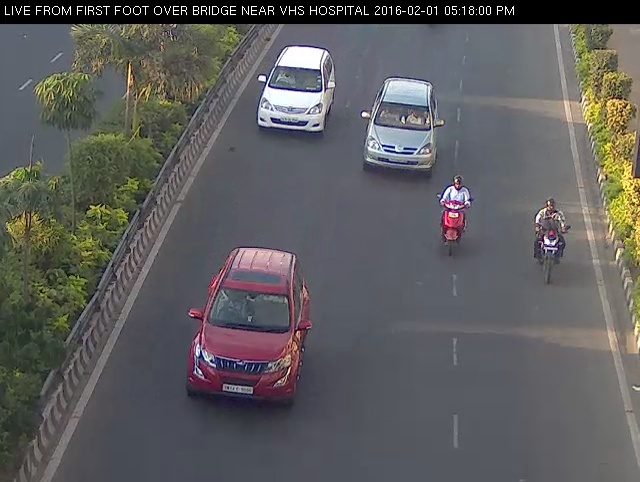Car: (172, 231, 322, 423), (359, 68, 447, 180), (252, 42, 340, 143)
Person: (525, 195, 579, 287), (432, 173, 478, 264)
